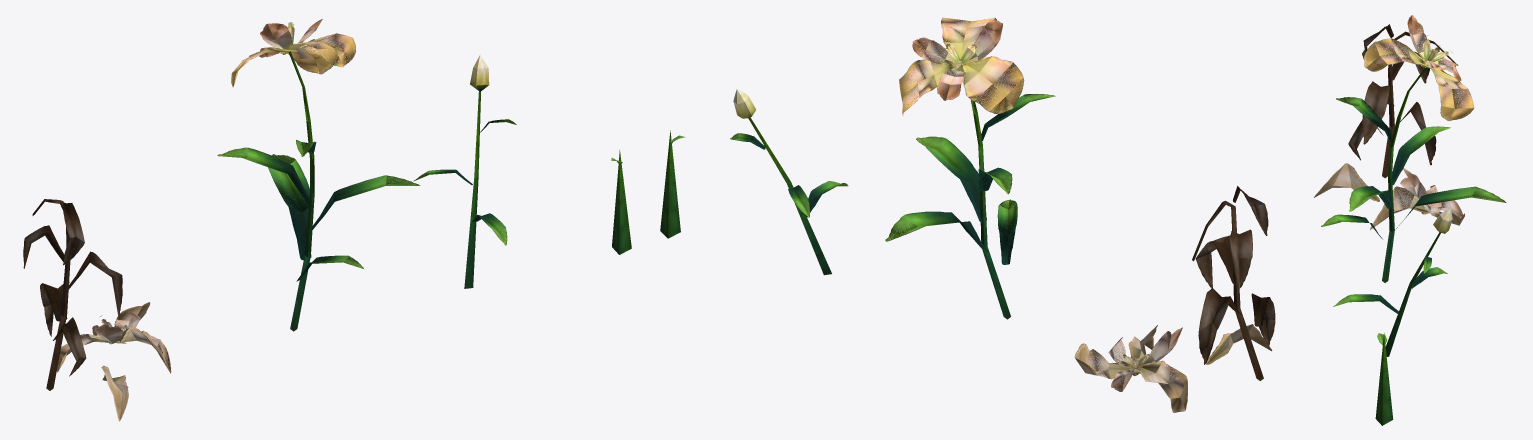
3 renders of one model, left to right at view 1: azimuth 30°, elevation 25°; view 2: azimuth 150°, elevation 25°; view 3: azimuth 270°, elevation 25°, orthographic. The views are drawn at different scales.
Visible parts, largest first — view 1: 293613_003, 293613_004, 293613_002, 293613_001; view 2: 293613_003, 293613_004, 293613_002, 293613_001; view 3: 293613_003, 293613_004, 293613_002, 293613_001.
Boxes of the visible parts, x1=… form: 293613_003: x1=217, y1=19, x2=420, y2=331; 293613_004: x1=23, y1=199, x2=171, y2=421; 293613_002: x1=413, y1=55, x2=516, y2=288; 293613_001: x1=611, y1=150, x2=631, y2=254; 293613_003: x1=885, y1=17, x2=1055, y2=319; 293613_004: x1=1074, y1=186, x2=1275, y2=412; 293613_002: x1=730, y1=89, x2=848, y2=275; 293613_001: x1=660, y1=130, x2=685, y2=238; 293613_003: x1=1321, y1=15, x2=1506, y2=282; 293613_004: x1=1314, y1=24, x2=1464, y2=229; 293613_002: x1=1333, y1=208, x2=1452, y2=356; 293613_001: x1=1375, y1=333, x2=1393, y2=425.
Size of the model in its own units: 308 by 159 by 105.
